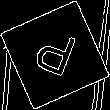P_S: (29, 24, 81, 86)
